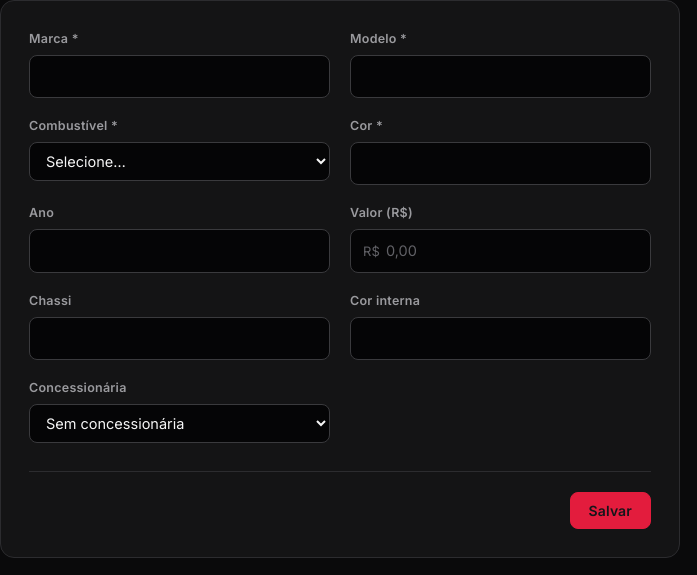
Test: VehicleForm › masks the valor field as currency while typing, ignoring non-digit input
Type "-abc12000000" into the field labelled "Valor (R$)" at x=512, y=251, box [386,230,638,272]
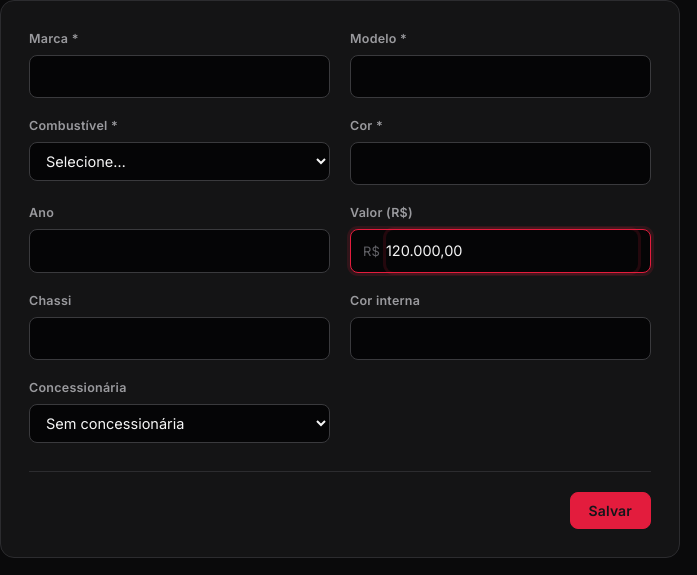
Expected: the field labelled "Valor (R$)" holds "120.000,00", [386,230,638,272]
